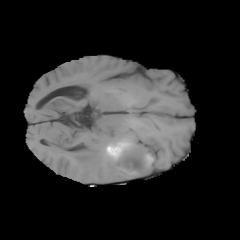glioma: (73, 130, 154, 177)
